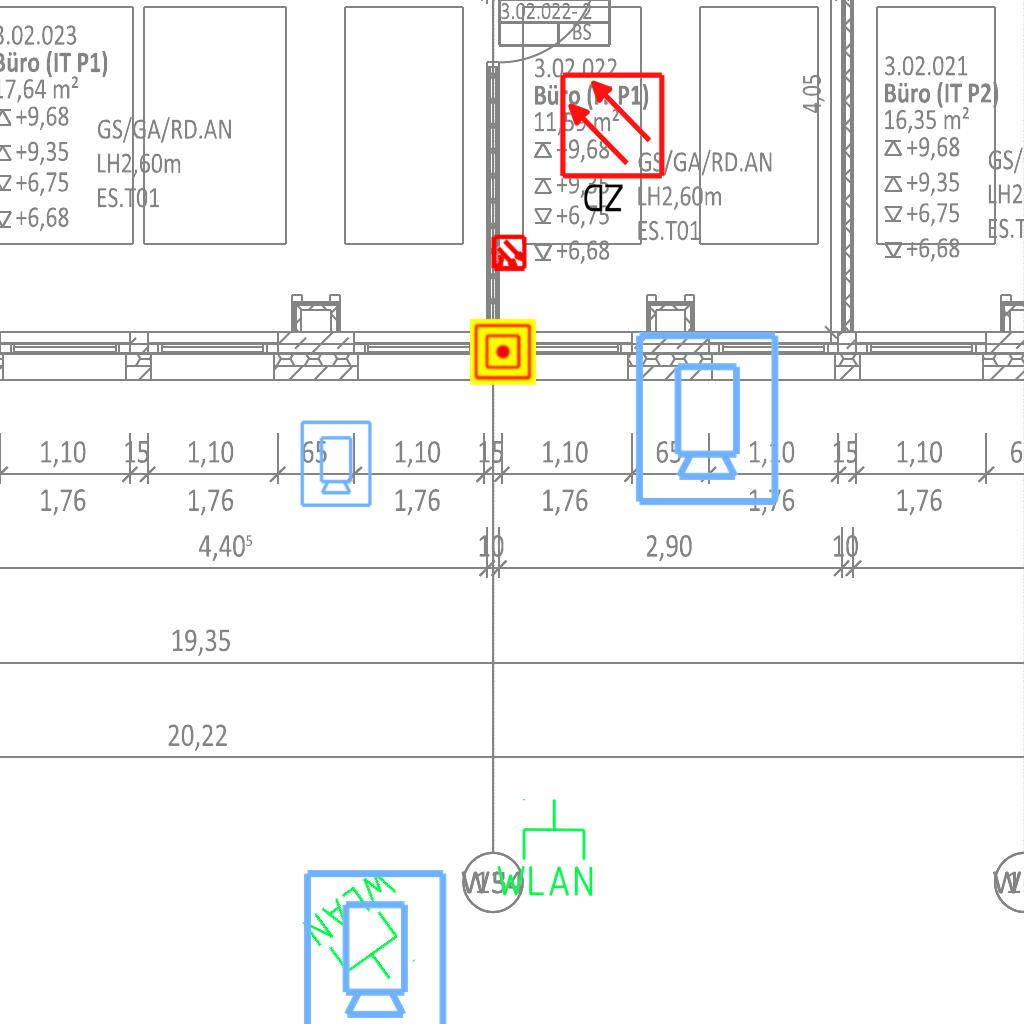KFO_Kamera_mit_Festobjektiv: (629, 327, 783, 509), (297, 865, 451, 1024), (297, 418, 374, 509)
NAM-Nichtautomatischer_Melder: (470, 319, 536, 385)
OT_Multisensormelder_(Kombination_RMO_WMD): (481, 226, 537, 282)
WLAN: (295, 860, 443, 1007), (492, 796, 597, 900)
ZD_Melder_in_Zwischendecke_mit_Revisionsoeffnung_mind_40_x_40_cm: (557, 70, 671, 219)
